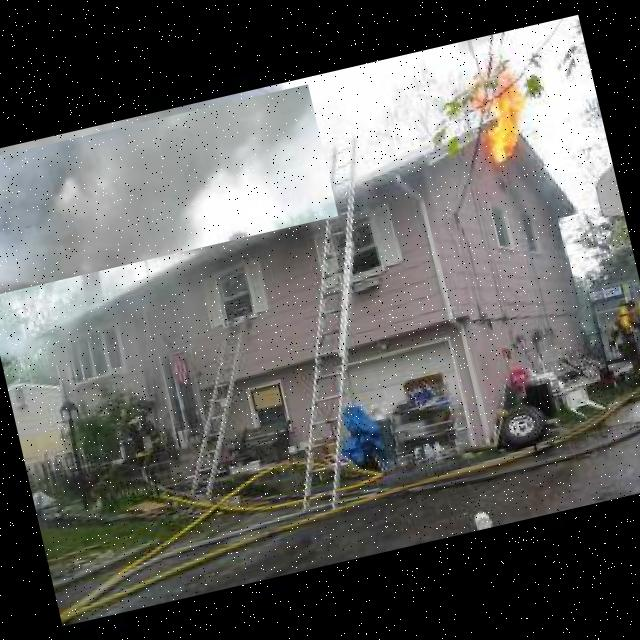fire: (0, 83, 337, 294), (405, 47, 546, 192)
